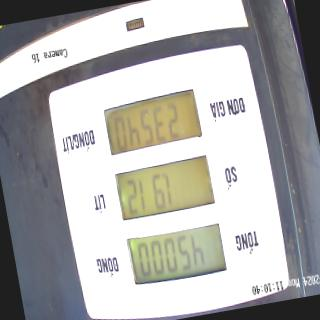screen: (100, 82, 231, 294)
